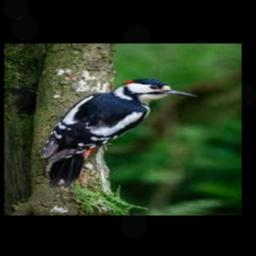Woodpecker: (39, 78, 197, 187)
